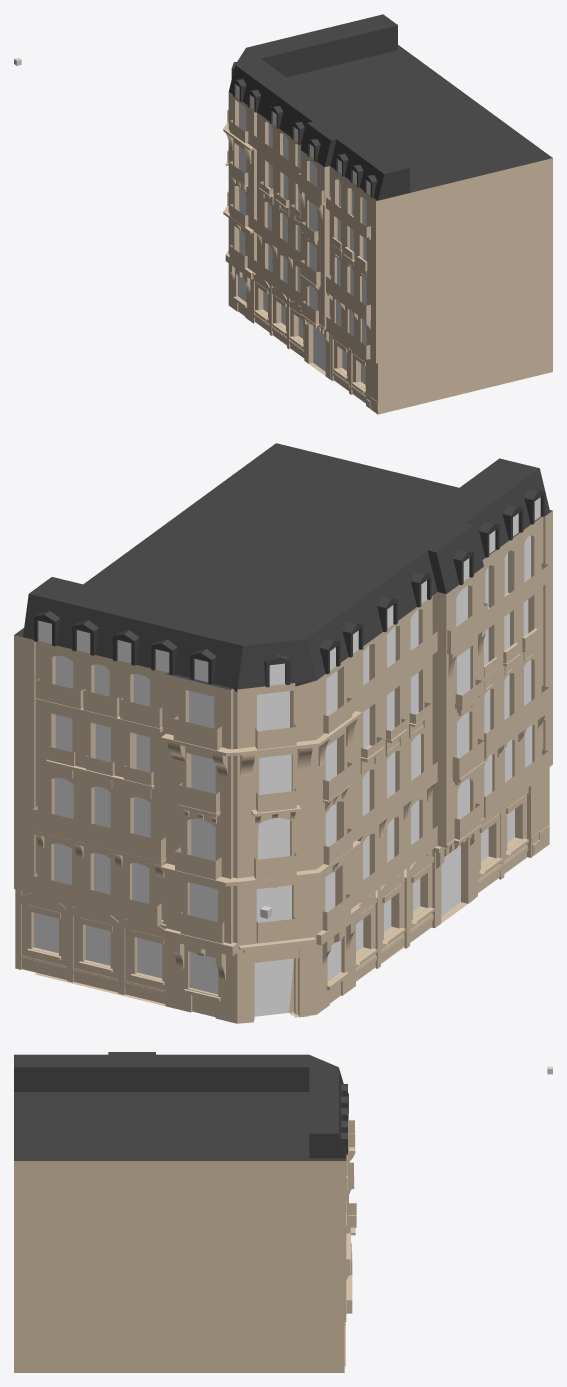
The model's file is otherbuilding_v2.glb.
3 views of the same model, one above another, from view 1: azimuth 30°, elevation 25°; view 2: azimuth 150°, elevation 25°; view 3: azimuth 270°, elevation 25° (orthographic). The views are drawn at different scales.
Parts seen in each view (by area): view 1: Brick, Tiles, Window; view 2: Brick, Tiles, Window; view 3: Brick, Tiles.
Part boxes in pixels (x1=…): Brick: x1=223, y1=92, x2=552, y2=414; Tiles: x1=229, y1=14, x2=552, y2=200; Window: x1=235, y1=84, x2=370, y2=384; Brick: x1=14, y1=511, x2=552, y2=1023; Tiles: x1=14, y1=443, x2=552, y2=692; Window: x1=34, y1=497, x2=540, y2=1016; Brick: x1=14, y1=1113, x2=356, y2=1372; Tiles: x1=14, y1=1052, x2=348, y2=1160.
Bounding box in the file's own units: 110 × 94.18 × 194.
